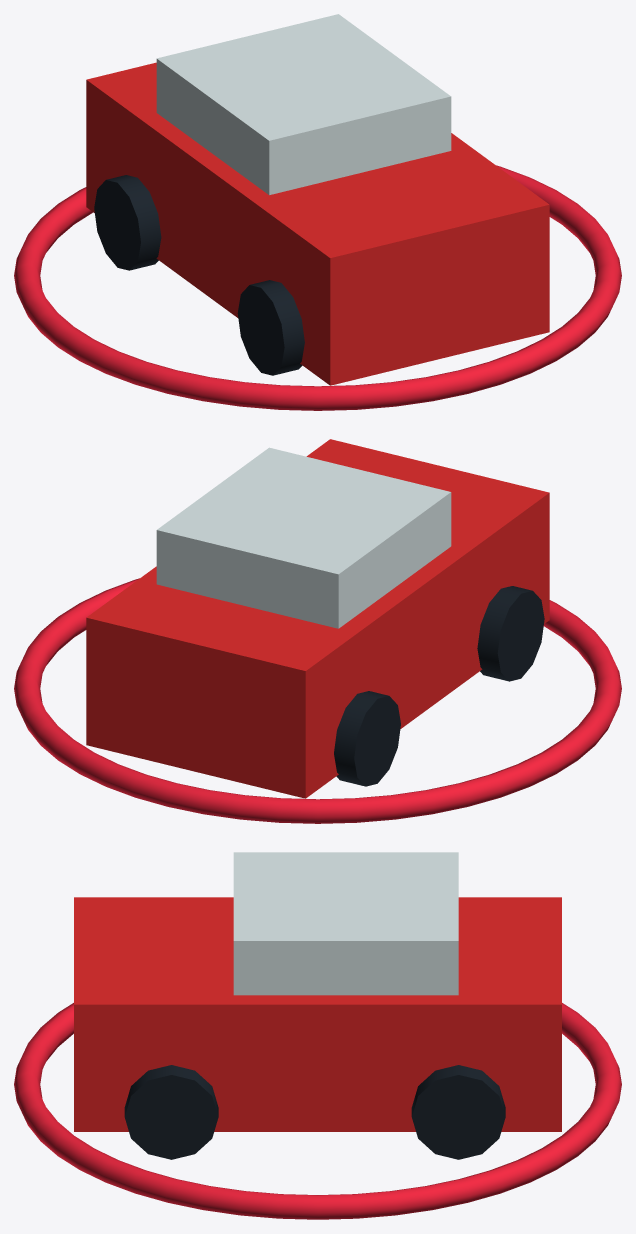
The model's file is car-danger.glb.
3 views of the same model, one above another, from view 1: azimuth 30°, elevation 25°; view 2: azimuth 150°, elevation 25°; view 3: azimuth 270°, elevation 25° (orthographic).
Bounding box in the file's own units: 3.24 × 1.17 × 3.24.
